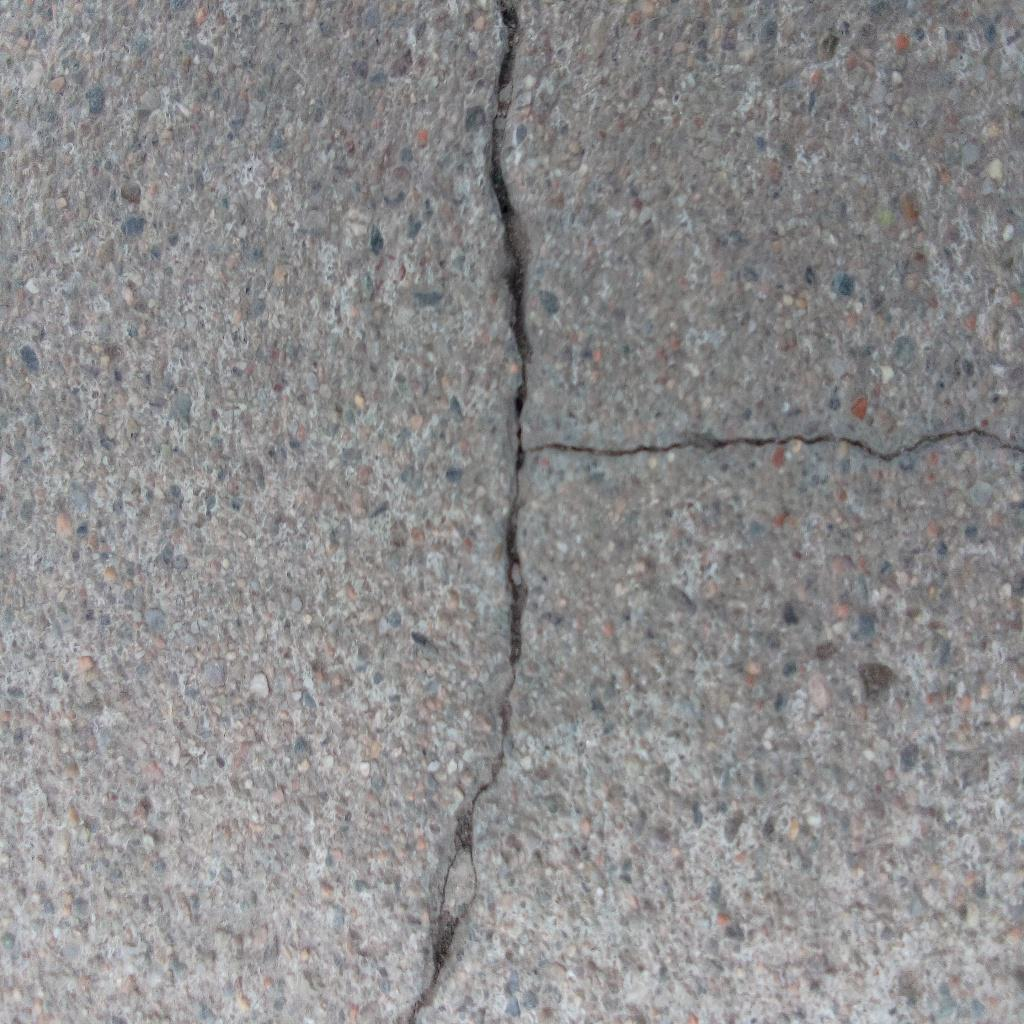Crack: (406, 1, 531, 1024), (522, 426, 1024, 464)
